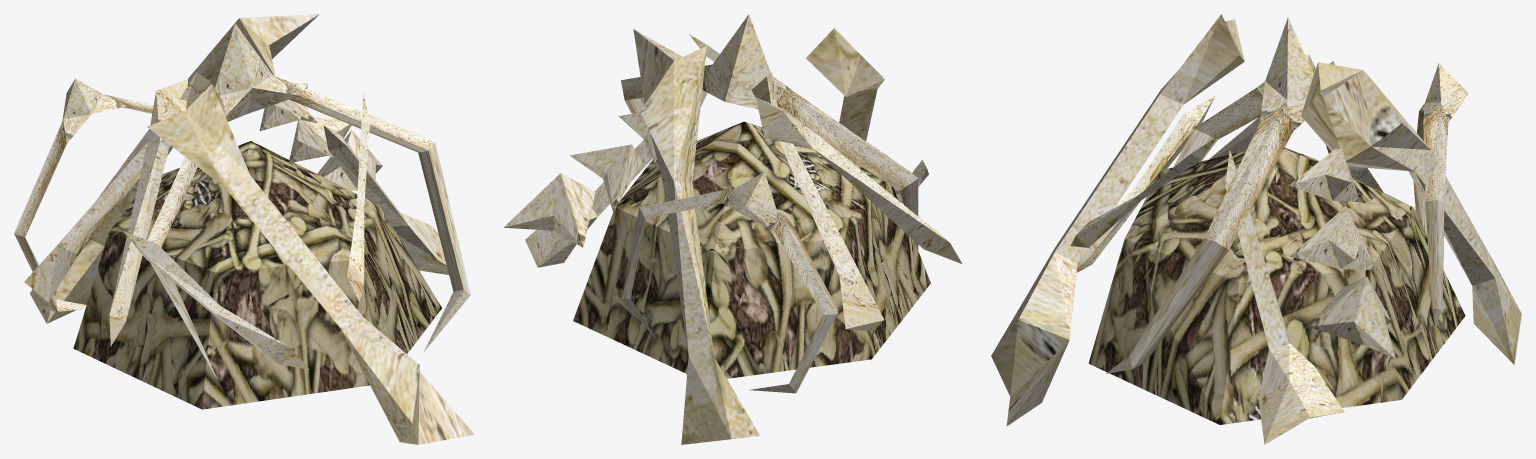
The model's file is poi_all_lair_bones_large_l2.fbx.
3 renders of one model, left to right at view 1: azimuth 30°, elevation 25°; view 2: azimuth 150°, elevation 25°; view 3: azimuth 270°, elevation 25°, orthographic. The views are drawn at different scales.
Visible parts, largest first — view 1: mesh_node; view 2: mesh_node; view 3: mesh_node.
Part boxes in pixels (x1,y1,x2,y2): mesh_node: (14, 14, 474, 444); mesh_node: (504, 14, 962, 444); mesh_node: (991, 14, 1521, 444).
Size of the model in its own units: 5.86 by 5.23 by 6.5.
